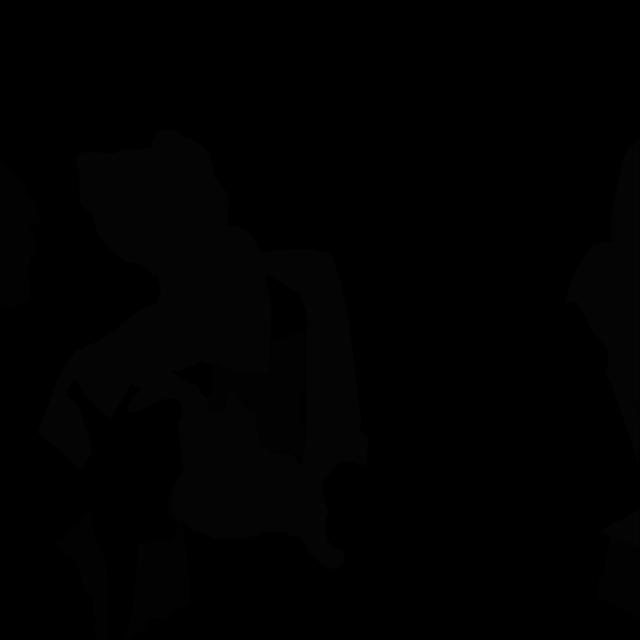cardboard: (208, 332, 306, 457), (124, 490, 190, 639), (56, 506, 109, 640), (0, 153, 42, 308), (598, 536, 640, 620)
soft_plastic: (38, 129, 368, 492), (126, 365, 344, 569), (566, 241, 640, 467), (610, 139, 640, 418), (599, 509, 640, 550)
